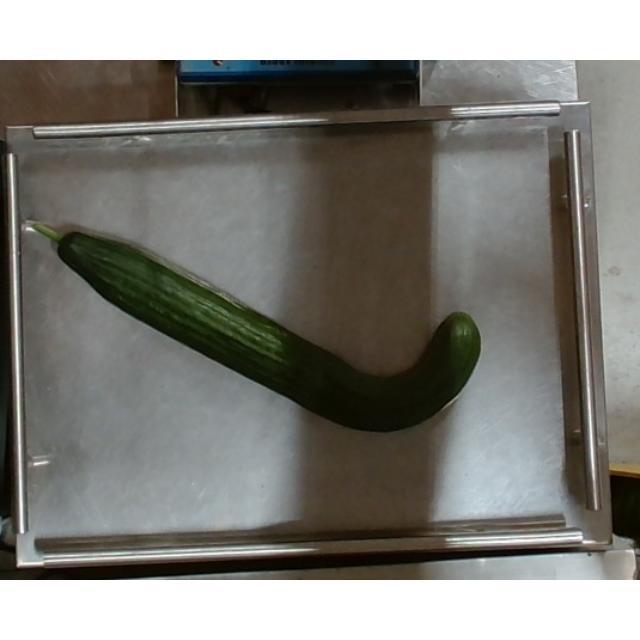cucumber: (25, 228, 483, 428)
